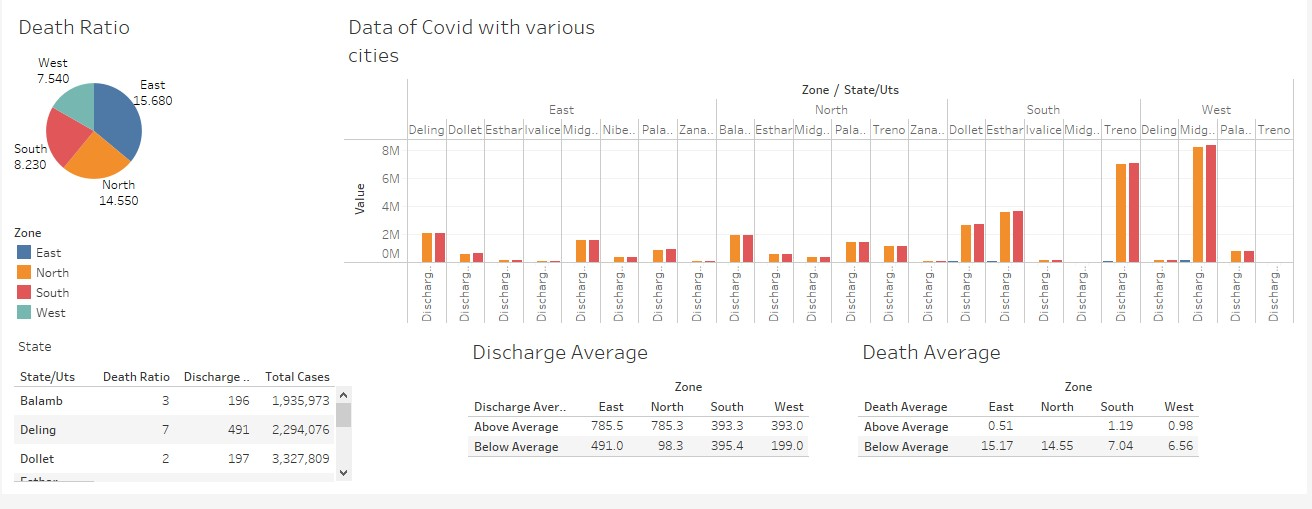

The page's visual inventory and layout, read from the dashboard file:
{"tool":"tableau","page":{"name":"Dashboard 1","canvas":[1000,1000],"units":"permille","ordinal":0},"visuals":[{"type":"worksheet","title":"Sheet 5","mark":"Pie","box":[7.1,16.1,252.1,433.7]},{"type":"worksheet","title":"Sheet 1","mark":"Automatic","cols":["Zone","State/Uts"],"box":[259.2,16.1,733.6,652.6]},{"type":"legend","title":"Sheet 5","param":"[federated.1ou7gu31csi3x11fm5r6a0g0989o].[none:Zone:nk]","box":[7.1,449.8,252.1,218.9]},{"type":"worksheet","title":"Sheet 6","mark":"Automatic","rows":["State/Uts"],"box":[7.1,668.7,347.3,315.3]},{"type":"worksheet","title":"Sheet 7","mark":"Automatic","rows":["Discharge Average"],"cols":["Zone"],"box":[354.5,668.7,298.2,315.3]},{"type":"worksheet","title":"Sheet 8","mark":"Automatic","rows":["Death Average"],"cols":["Zone"],"box":[652.7,668.7,340.2,315.3]}]}

Visuals, with their boxes on the dashboard's canvas, which has no fixed pixel size, in thousandths of its width and height (x1, y1, x2, y2). These are canvas units, not pixel positions in the 1312x509 screenshot, which may show the page scaled, cropped or inside an application window:
"Sheet 5" worksheet (Pie marks): 7/16/259/450
"Sheet 1" worksheet: 259/16/993/669
"Sheet 5" legend: 7/450/259/669
"Sheet 6" worksheet: 7/669/354/984
"Sheet 7" worksheet: 354/669/653/984
"Sheet 8" worksheet: 653/669/993/984
